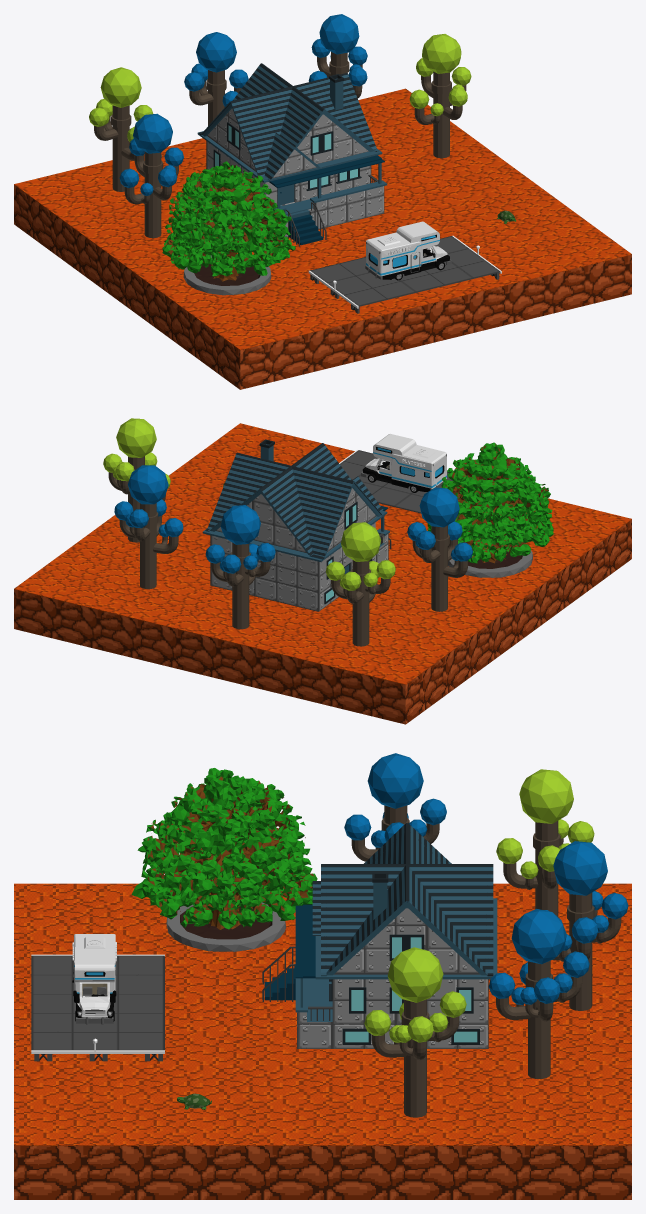
3 views of the same model, one above another, from view 1: azimuth 30°, elevation 25°; view 2: azimuth 150°, elevation 25°; view 3: azimuth 270°, elevation 25° (orthographic). The views are drawn at different scales.
Visible parts, largest first — view 1: Cube.001, Cube.078, OBJRANDOM_CEIBA, VEHICLES_CAMPER; view 2: Cube.001, Cube.078, OBJRANDOM_CEIBA, VEHICLES_CAMPER; view 3: Cube.001, Cube.078, OBJRANDOM_CEIBA, VEHICLES_CAMPER.
Boxes of the visible parts, box(x1,y1,x2,y2) form: Cube.001: box(14, 14, 631, 389); Cube.078: box(197, 63, 387, 246); OBJRANDOM_CEIBA: box(162, 161, 295, 295); VEHICLES_CAMPER: box(365, 221, 451, 280); Cube.001: box(14, 418, 631, 724); Cube.078: box(202, 439, 391, 611); OBJRANDOM_CEIBA: box(427, 442, 553, 577); VEHICLES_CAMPER: box(361, 434, 447, 492); Cube.001: box(14, 753, 631, 1199); Cube.078: box(262, 823, 497, 1048); OBJRANDOM_CEIBA: box(131, 768, 317, 951); VEHICLES_CAMPER: box(72, 934, 116, 1024).
Bounding box in the file's own units: 4000 × 1642 × 4000.
Materials: 39 (6 with a texture image).
